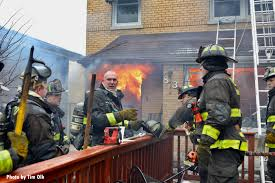emergent: (196, 42, 248, 182), (85, 71, 130, 144)
